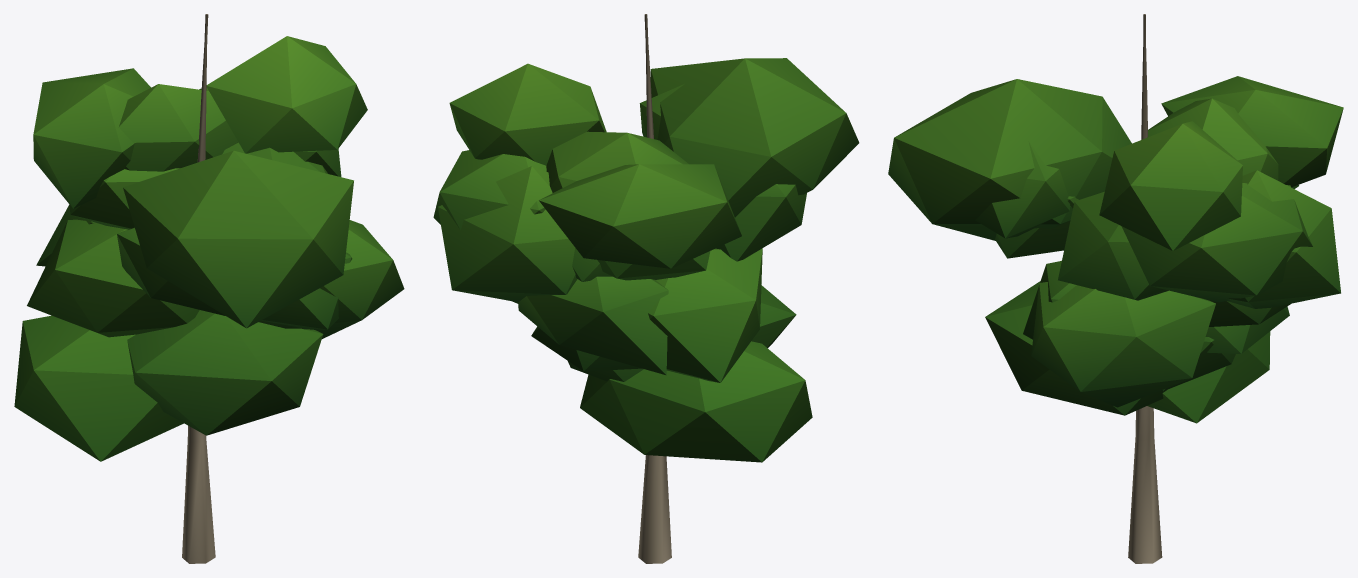
File: red-alder-c-distant.glb
The picture shows the model from 3 angles, left to right: view 1: azimuth 30°, elevation 25°; view 2: azimuth 150°, elevation 25°; view 3: azimuth 270°, elevation 25°; orthographic projection.
Visible parts, largest first — view 1: red-alder-c-distant.Leaves, red-alder-c-distant.Bark; view 2: red-alder-c-distant.Leaves, red-alder-c-distant.Bark; view 3: red-alder-c-distant.Leaves, red-alder-c-distant.Bark.
Part boxes in pixels (x1,y1,x2,y2): red-alder-c-distant.Leaves: (14, 36, 404, 461); red-alder-c-distant.Bark: (182, 14, 215, 563); red-alder-c-distant.Leaves: (433, 58, 859, 462); red-alder-c-distant.Bark: (638, 14, 671, 563); red-alder-c-distant.Leaves: (888, 76, 1343, 423); red-alder-c-distant.Bark: (1128, 14, 1162, 563).
Size of the model in its own units: 8.59 by 13 by 9.81.
